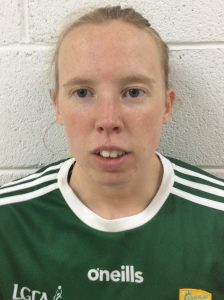player: (1, 8, 210, 299)
